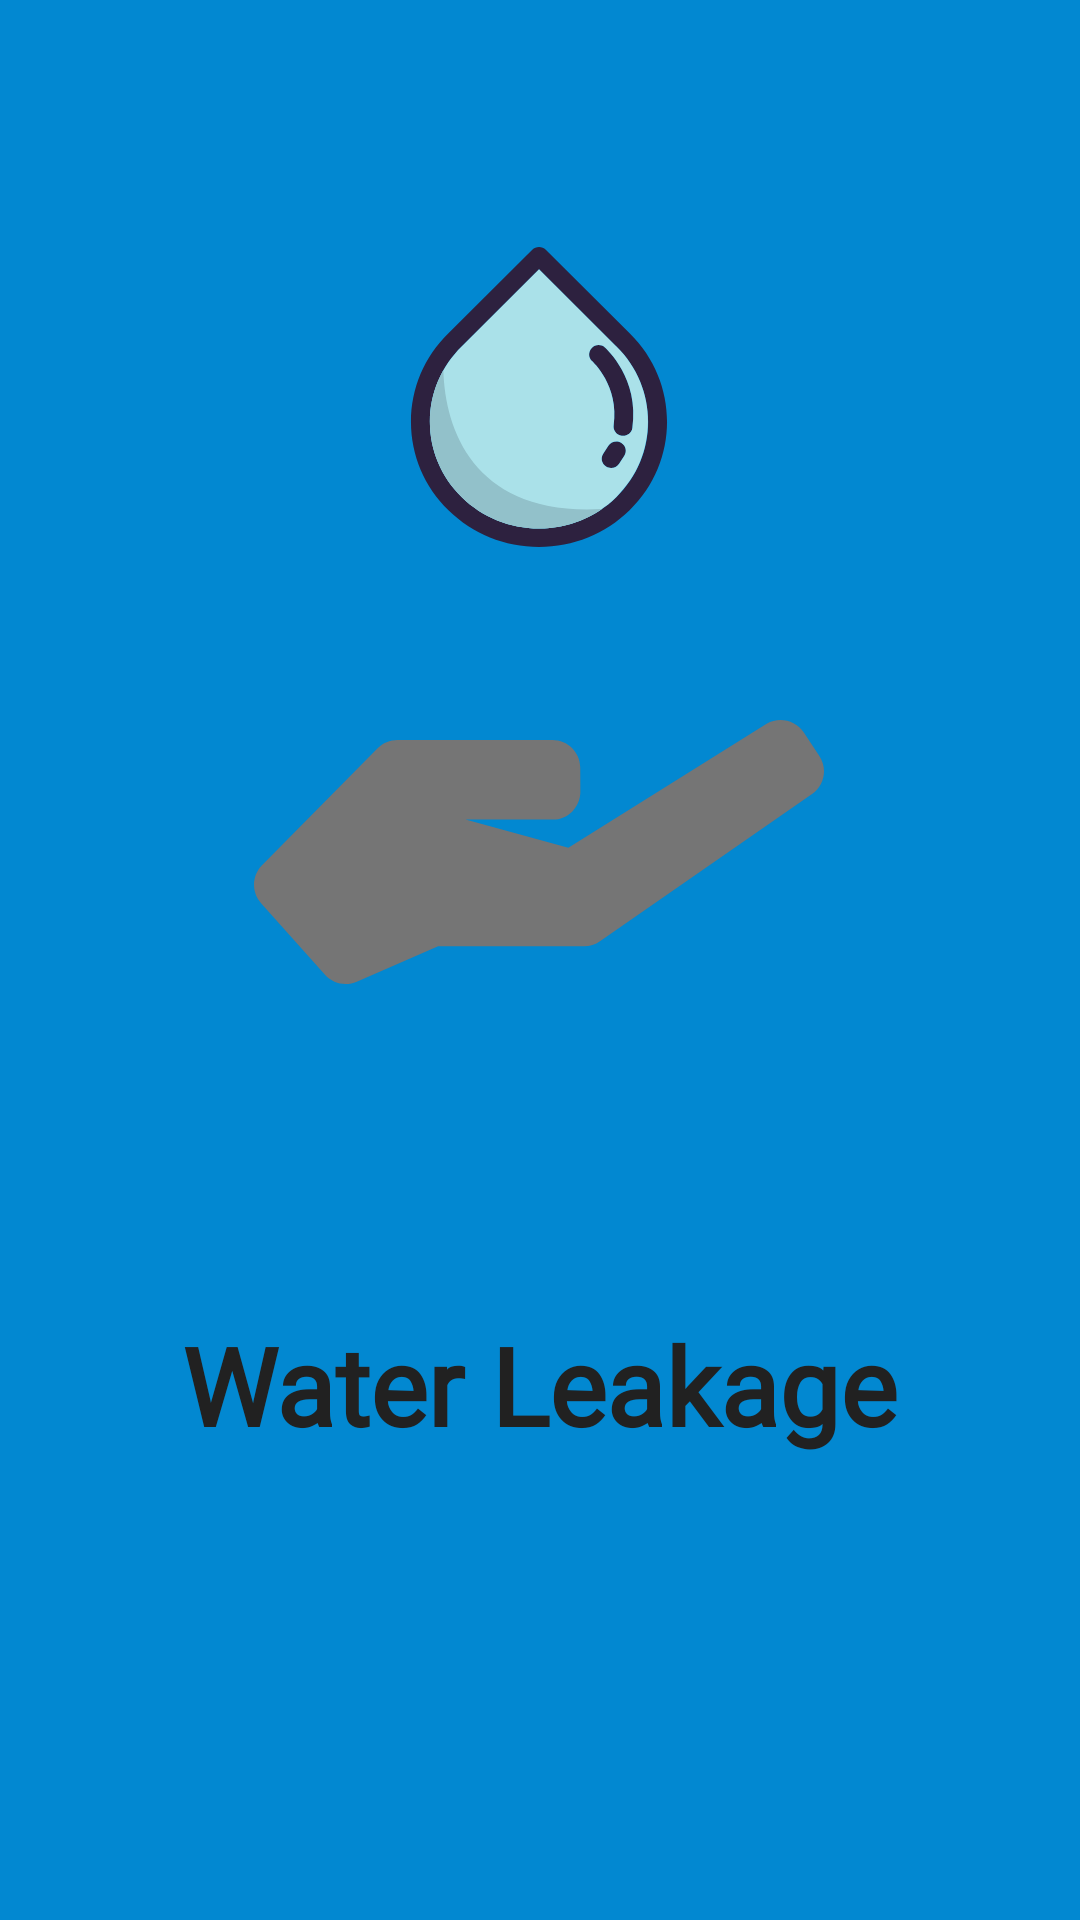

Where icons sit on this 1080px x 1920px app screen, as rect(x1, y1, x2, y2):
water drop: rect(411, 247, 667, 547)
